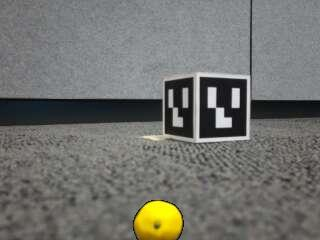lemon: (134, 201, 182, 240)
